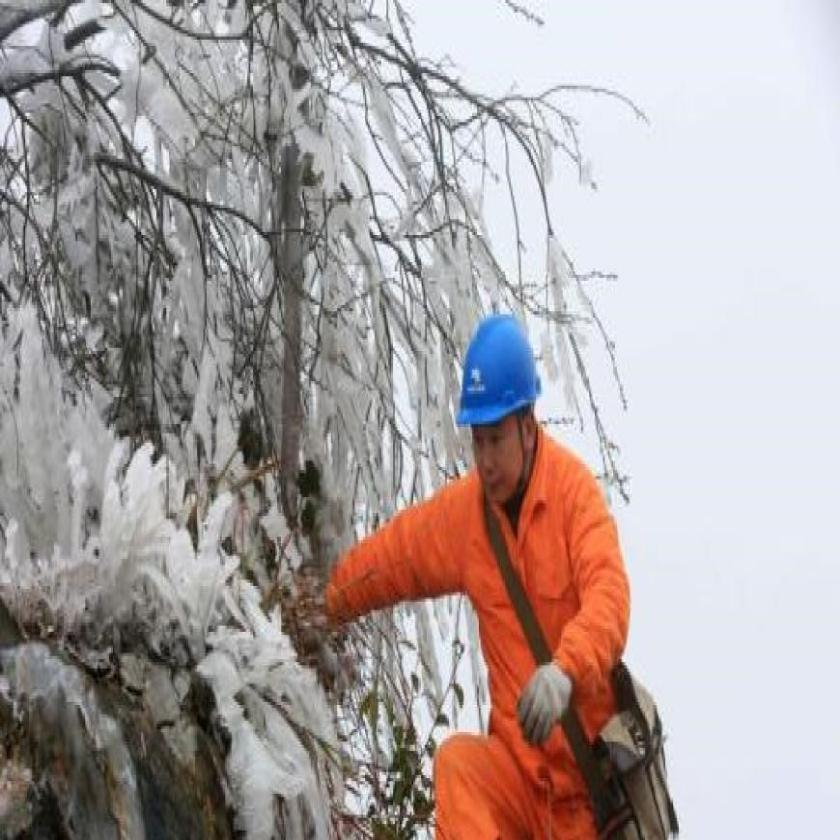Con_casco: (453, 308, 552, 513)
